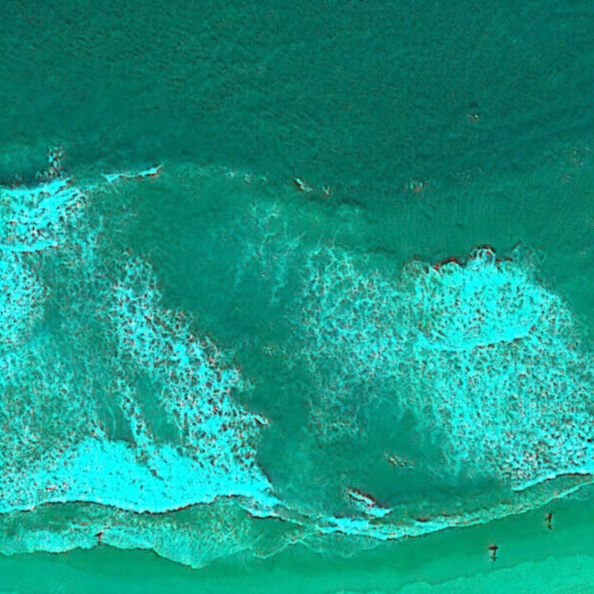rip_current: (74, 147, 467, 474)
